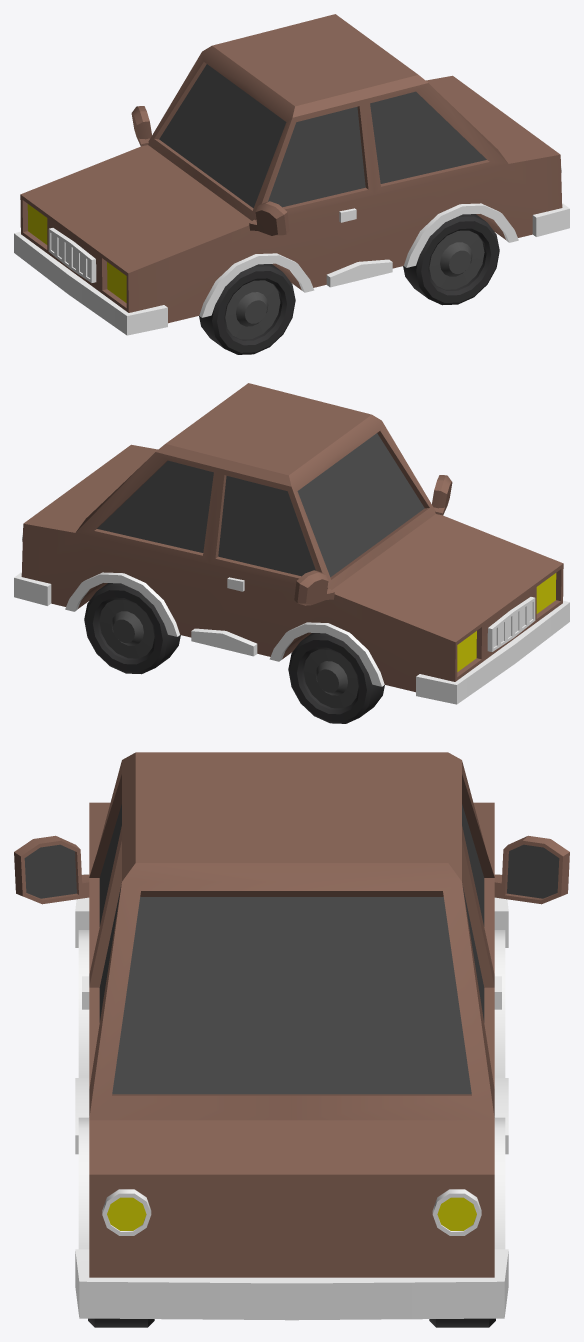
The model's file is CarNew.gltf.
3 renders of one model, top to bottom at view 1: azimuth 30°, elevation 25°; view 2: azimuth 150°, elevation 25°; view 3: azimuth 270°, elevation 25°, orthographic. The views are drawn at different scales.
Visible parts, largest first — view 1: CarBase, CarSilverStuff, CarWindowL, WheelFL, WheelBL, MirrorL, SilverThingBack, MirrorR; view 2: CarBase, CarSilverStuff, CarWindowR, WheelFR, WheelBR, MirrorR, SilverThingBack, MirrorL; view 3: CarBase, SilverThingBack, CarSilverStuff, MirrorL, MirrorR, BackLightL, BackLightR, CarWindowL, CarWindowR.
Boxes of the visible parts, bbox=[...] form: CarBase: bbox=[20, 14, 562, 323]; CarSilverStuff: bbox=[14, 203, 518, 335]; CarWindowL: bbox=[268, 107, 365, 207]; WheelFL: bbox=[199, 264, 295, 354]; WheelBL: bbox=[403, 214, 499, 305]; MirrorL: bbox=[249, 201, 289, 236]; SilverThingBack: bbox=[532, 203, 569, 236]; MirrorR: bbox=[131, 106, 151, 146]; CarBase: bbox=[21, 383, 563, 692]; CarSilverStuff: bbox=[65, 572, 569, 704]; CarWindowR: bbox=[218, 476, 315, 576]; WheelFR: bbox=[288, 633, 384, 723]; WheelBR: bbox=[84, 583, 180, 674]; MirrorR: bbox=[294, 570, 334, 605]; SilverThingBack: bbox=[14, 572, 51, 605]; MirrorL: bbox=[432, 475, 452, 515]; CarBase: bbox=[89, 752, 494, 1277]; SilverThingBack: bbox=[75, 1249, 508, 1320]; CarSilverStuff: bbox=[75, 874, 508, 1249]; MirrorL: bbox=[14, 835, 89, 904]; MirrorR: bbox=[494, 835, 569, 904]; BackLightL: bbox=[102, 1189, 151, 1235]; BackLightR: bbox=[432, 1189, 481, 1235]; CarWindowL: bbox=[99, 804, 121, 926]; CarWindowR: bbox=[462, 804, 484, 926].
Bounding box in the file's own units: 6.69 × 3.28 × 3.84.
